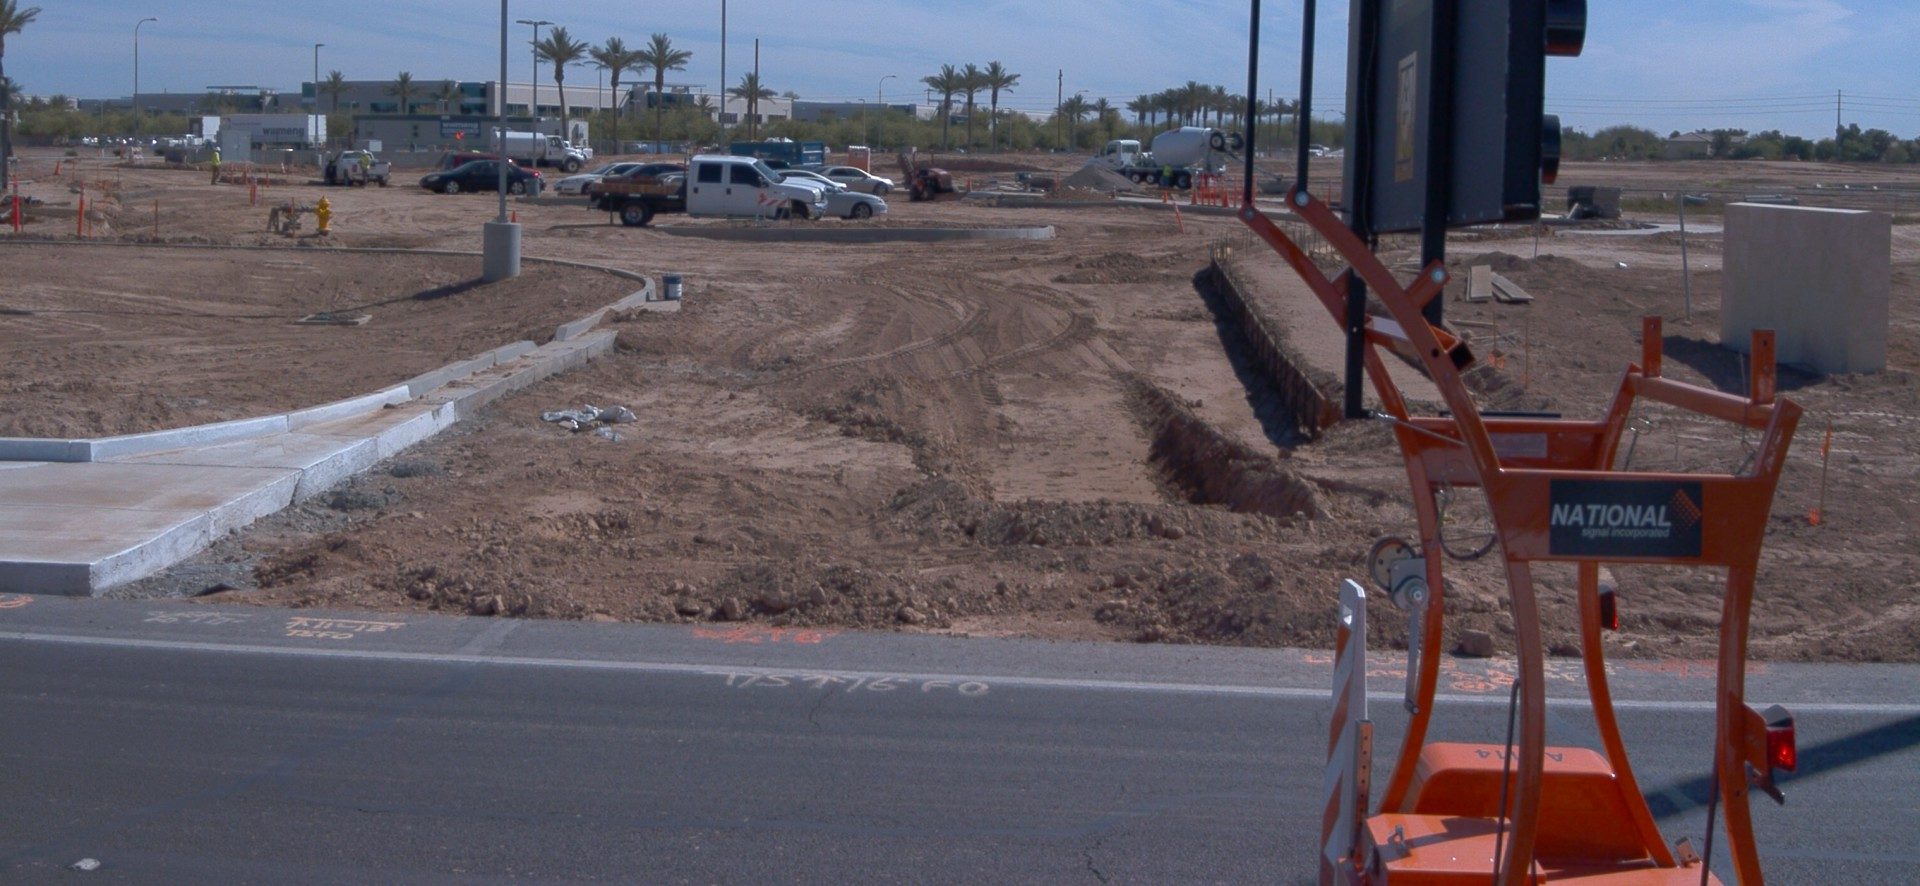TYPE_PEDESTRIAN: (357, 148, 371, 188), (212, 144, 224, 187), (1161, 157, 1174, 188)
TYPE_VEHICLE: (1125, 0, 1803, 886), (592, 155, 829, 226), (1084, 119, 1287, 190), (59, 116, 220, 159), (217, 108, 328, 160), (419, 157, 543, 197), (489, 123, 587, 173), (788, 175, 891, 219), (437, 150, 547, 191), (896, 145, 961, 204), (561, 158, 645, 198), (325, 149, 396, 192), (810, 163, 896, 198), (603, 161, 690, 193), (662, 160, 792, 181), (770, 170, 847, 191), (561, 138, 597, 164), (1309, 142, 1330, 157), (553, 183, 564, 194)
